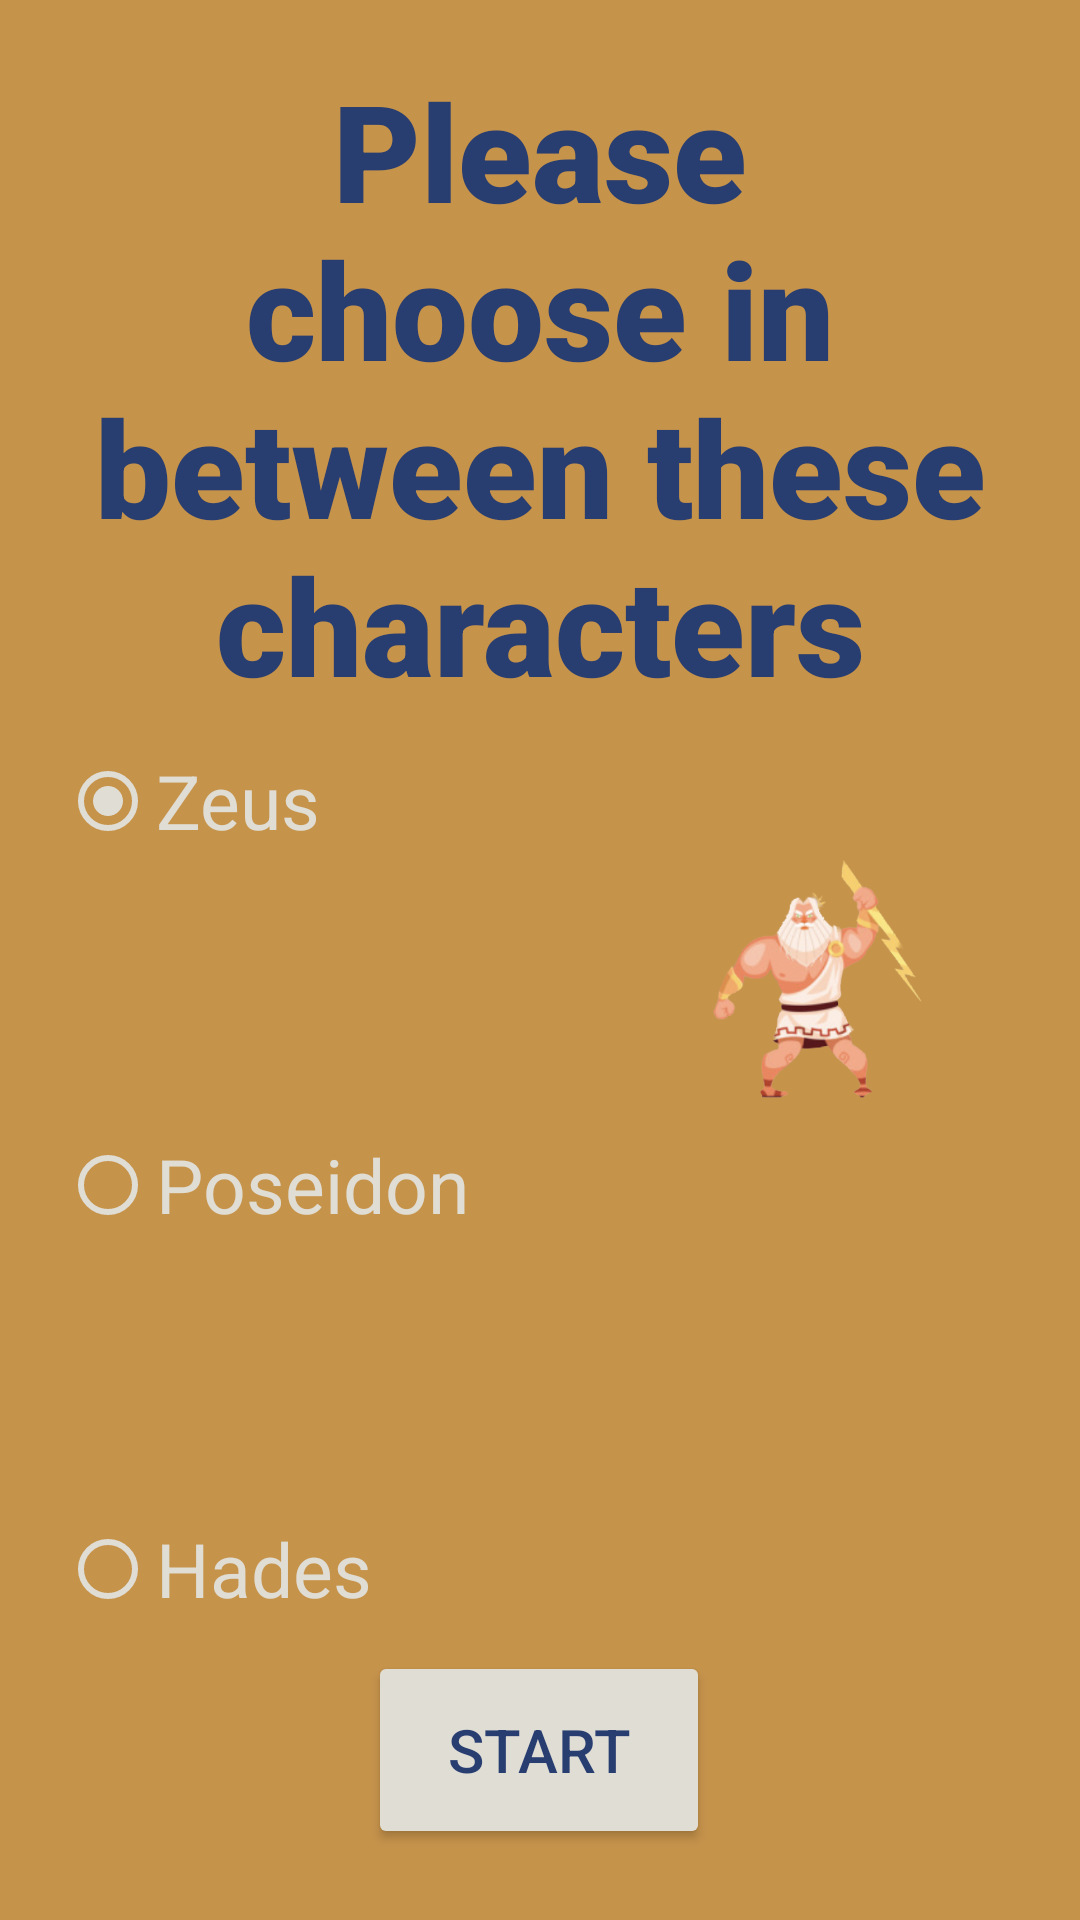

Named icons in this screenshot (1080 × 1920) and their bounding boxes, Rect(x1, y1, x2, y2):
zeus: Rect(714, 861, 921, 1098)
